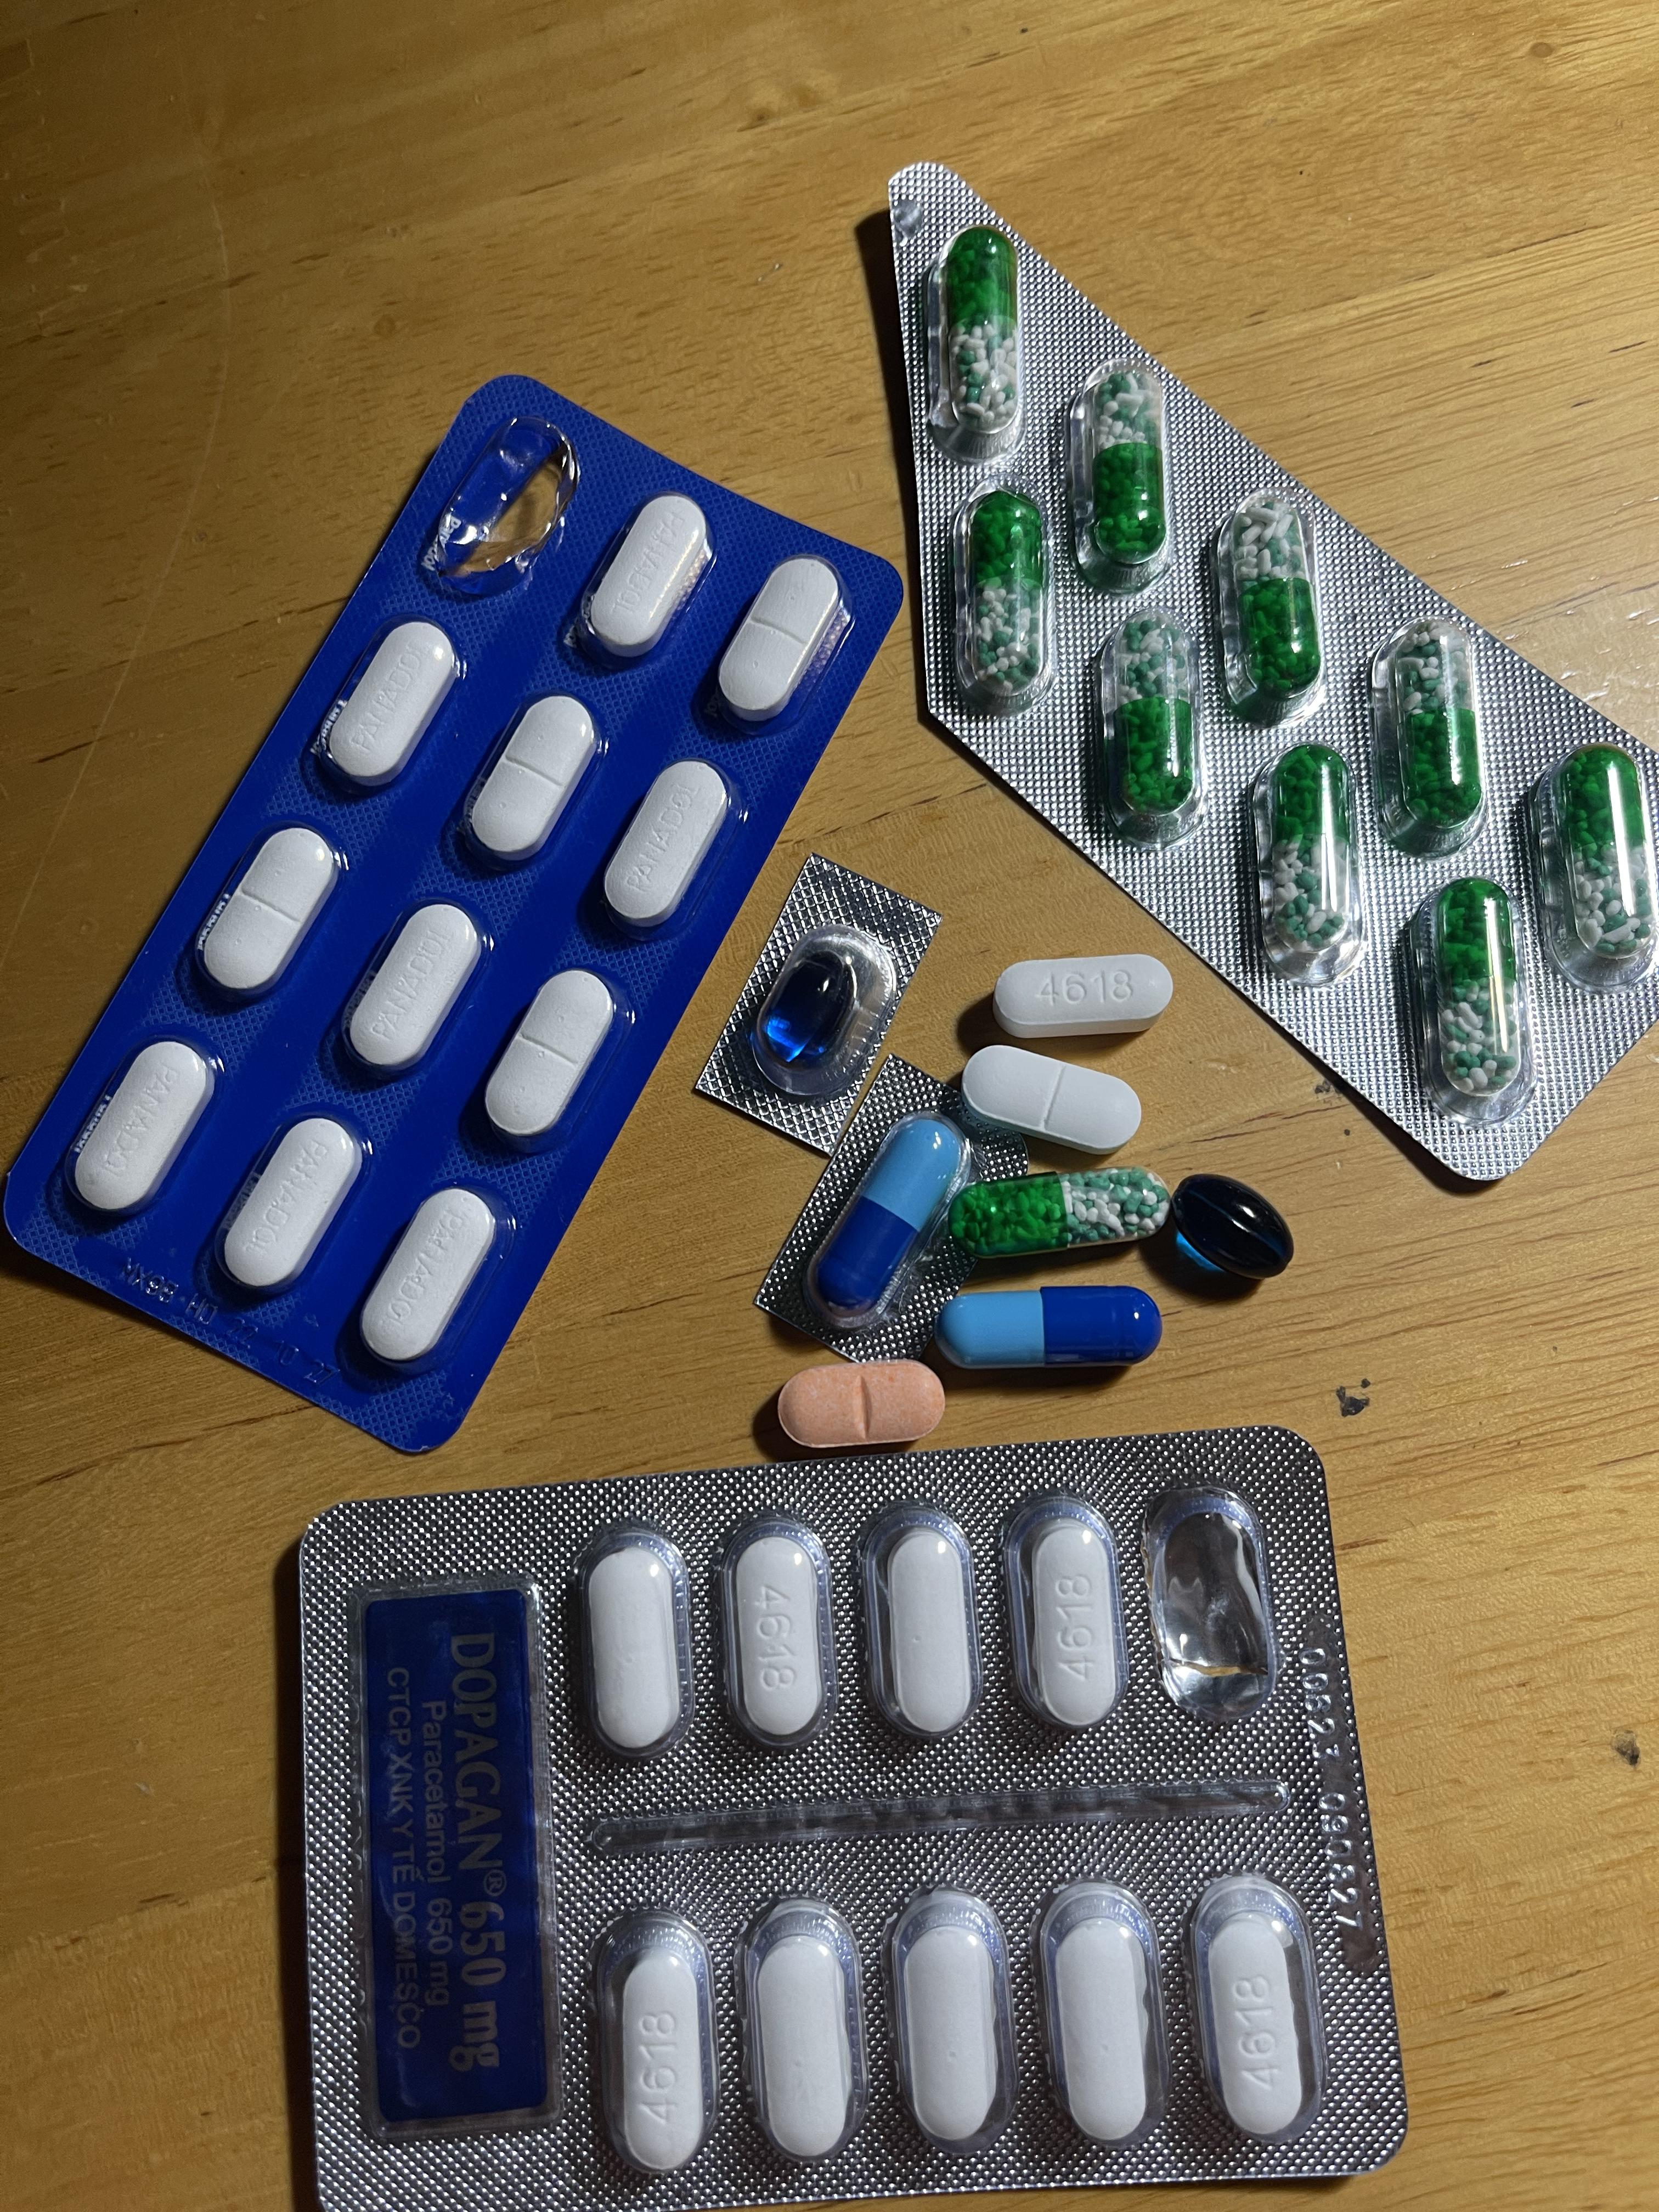Lincomyxin_500mg: (1168, 1170, 1293, 1278), (758, 953, 856, 1068)
Loratadine_10mg: (779, 1360, 945, 1449)
Paracetamol_350mg: (211, 1113, 366, 1301), (71, 1036, 216, 1223), (356, 1186, 500, 1371), (483, 965, 622, 1150), (199, 824, 342, 1000), (315, 622, 458, 798), (343, 899, 484, 1075), (462, 693, 598, 867), (711, 554, 842, 733), (577, 493, 713, 665), (601, 759, 734, 932), (958, 1042, 1143, 1155)
Paracetamol_500mg: (903, 1916, 1002, 2148), (1208, 1918, 1310, 2137), (756, 1926, 852, 2160), (1054, 1916, 1152, 2144), (615, 1951, 704, 2172), (587, 1543, 678, 1752), (734, 1541, 824, 1740), (885, 1527, 972, 1733), (1028, 1529, 1117, 1726), (993, 956, 1171, 1040)
Paracetamol_650mg: (945, 1165, 1171, 1258), (1558, 751, 1652, 961), (1267, 749, 1354, 956), (1230, 500, 1317, 707), (1394, 625, 1480, 831), (1436, 888, 1521, 1089), (943, 225, 1019, 444), (1110, 615, 1192, 815), (967, 493, 1046, 695), (1087, 369, 1162, 561)
pill: (803, 1109, 969, 1332), (934, 1285, 1162, 1371)
